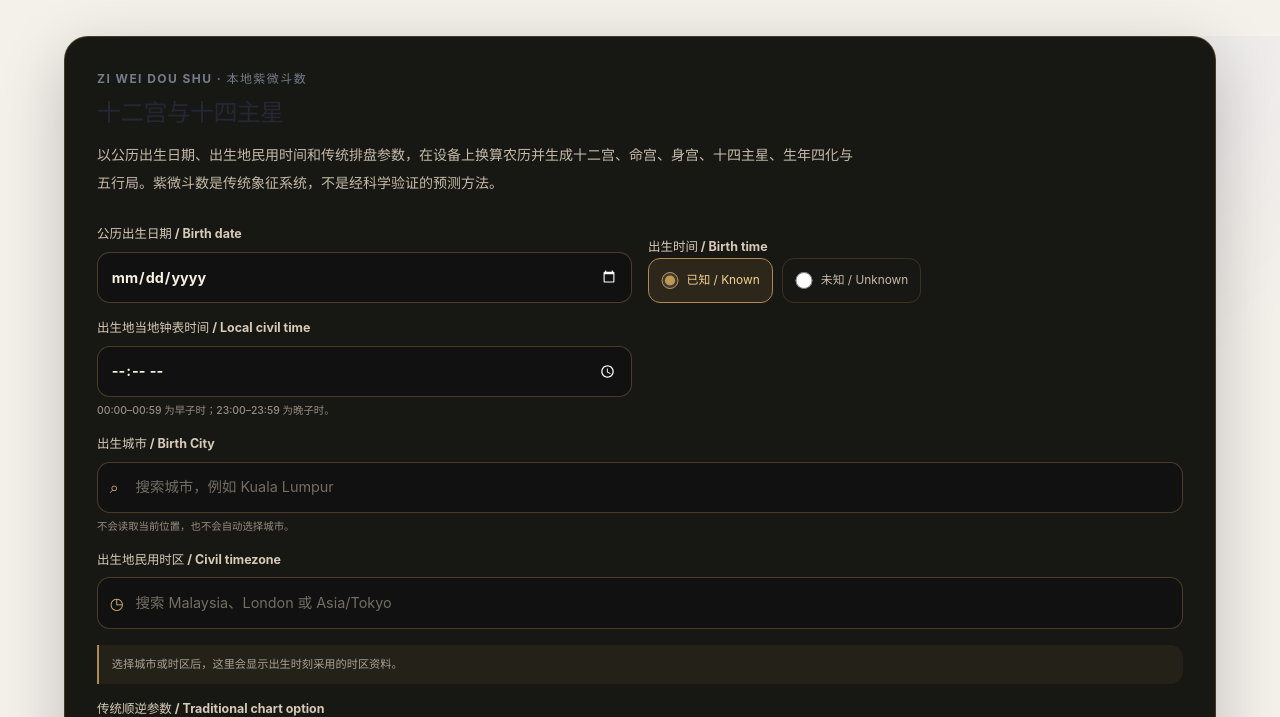
Test: local Zi Wei experience › uses the offline city and readable date-specific timezone experience without coordinates
The width and height of the screenshot is (1280, 717).
In the date field labelled "公历出生日期 / Birth date": (364,277) [97,252,632,303], type "1990-06-15"
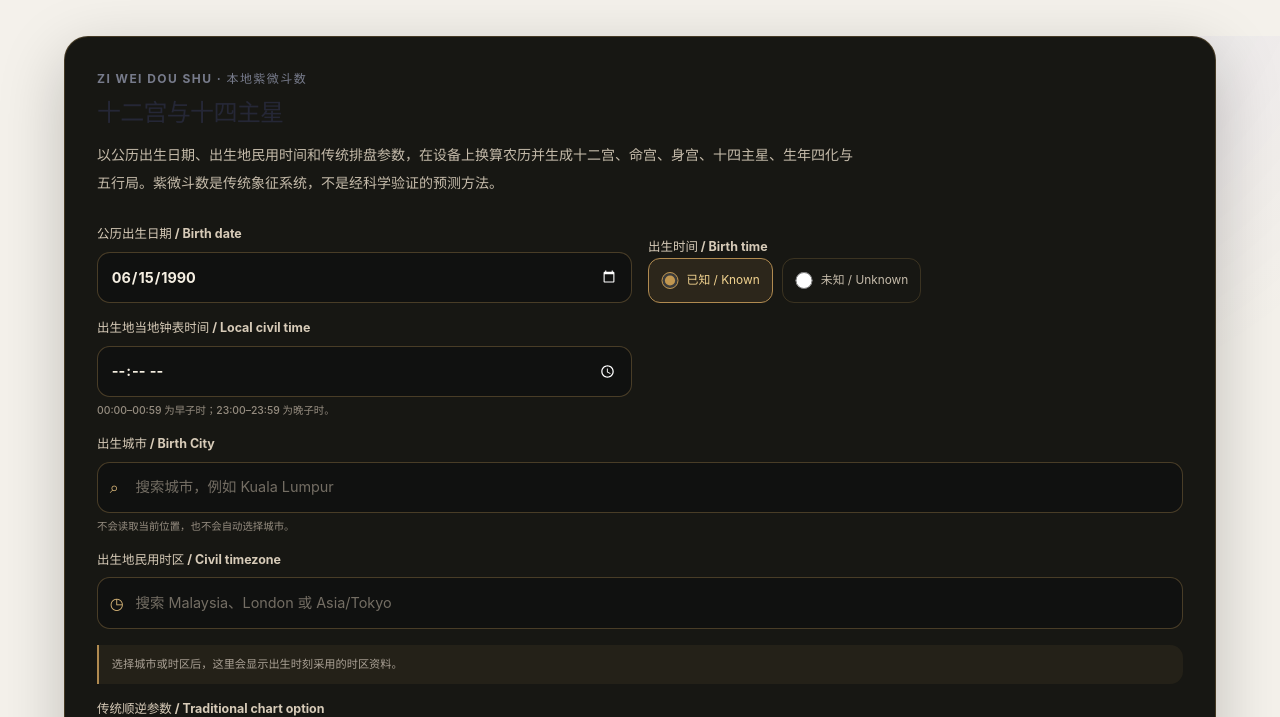
In the time field labelled "Local civil time": (364,371) [97,346,632,397], type "09:30"
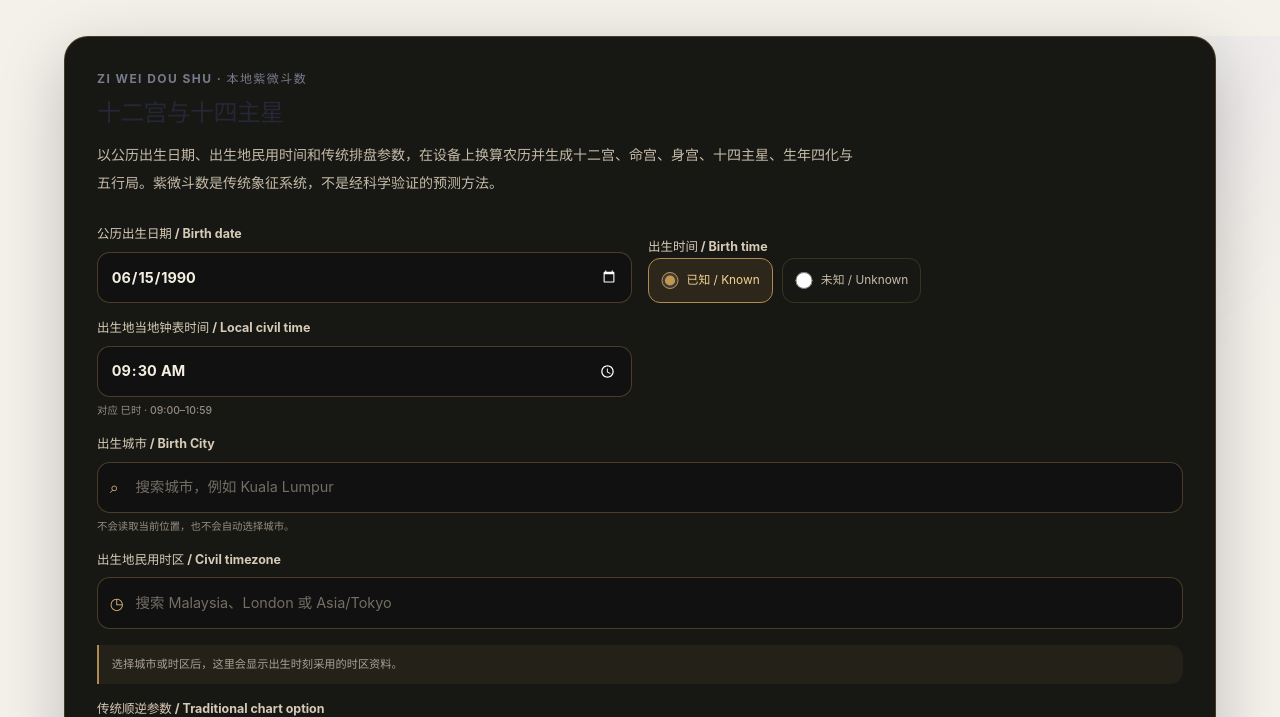
In the dropdown labelled "出生城市 / Birth City": (640,487) [97,462,1183,513], type "Kuala Lumpur"
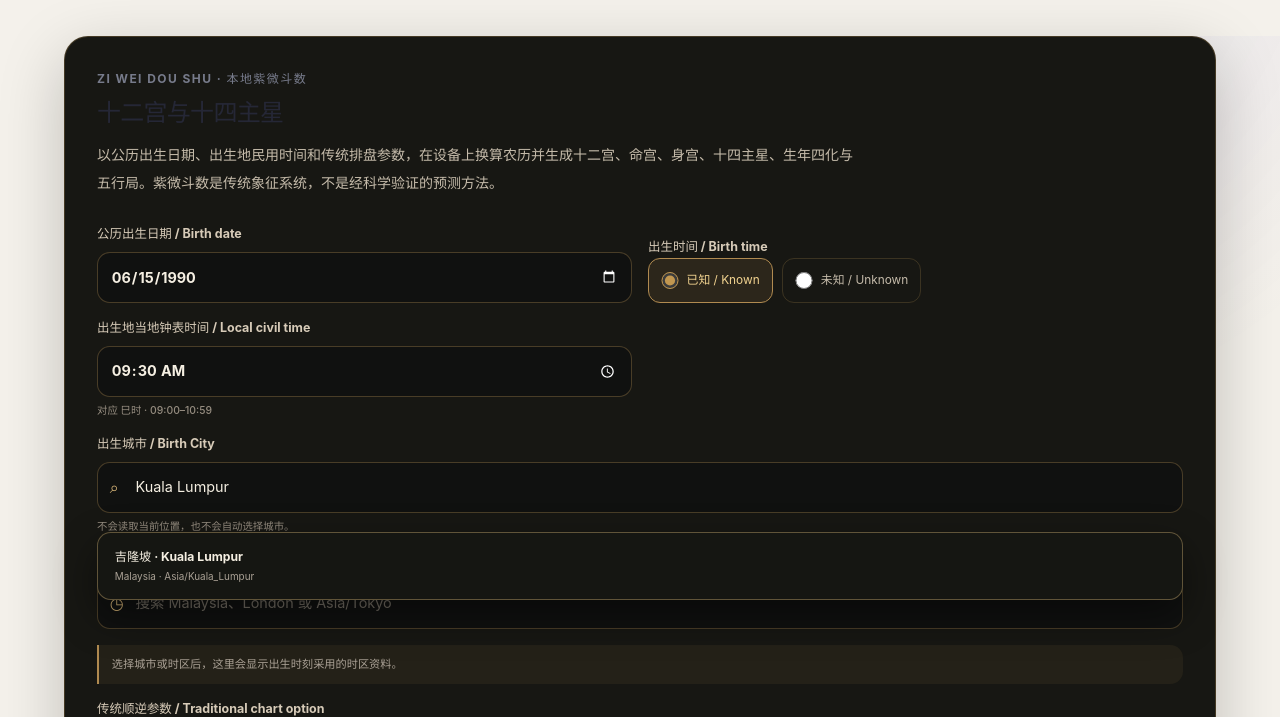
Click the option "吉隆坡 · Kuala Lumpur Malaysia · Asia/Kuala_Lumpur": (133,556) [104,538,1176,594]
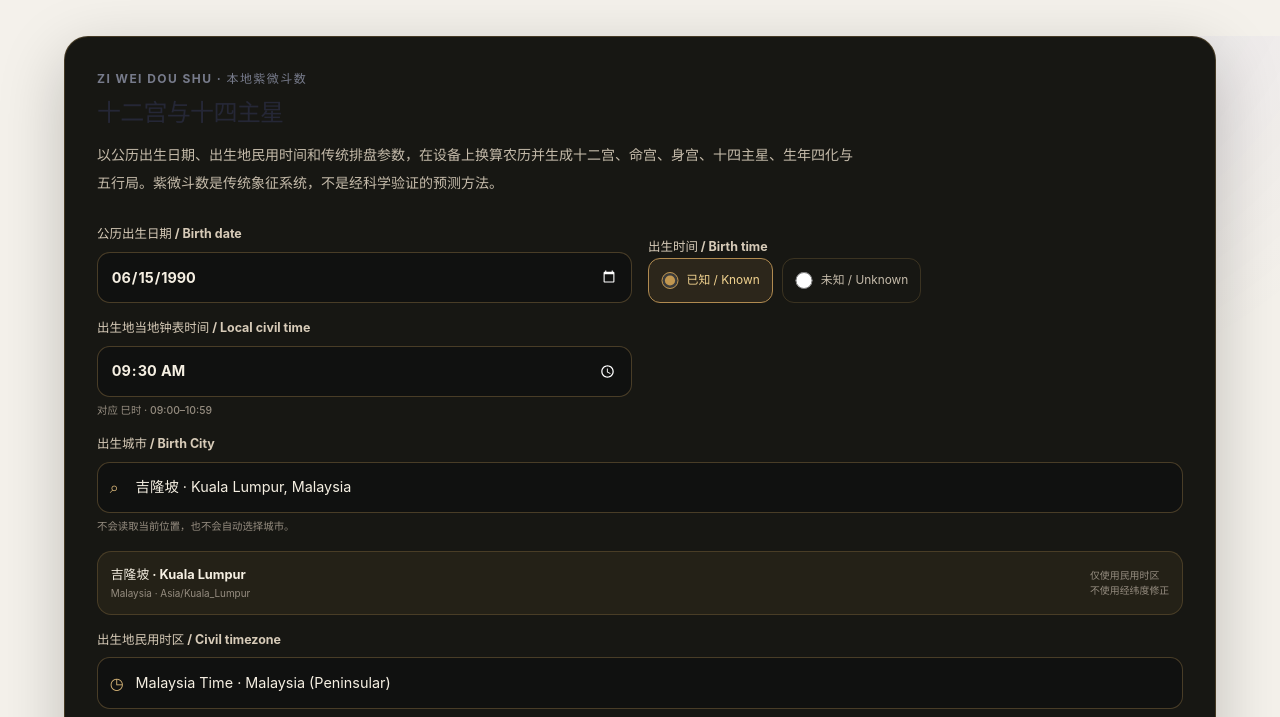
Expected: the text "仅使用民用时区" is shown, [1090,569,1159,581]
